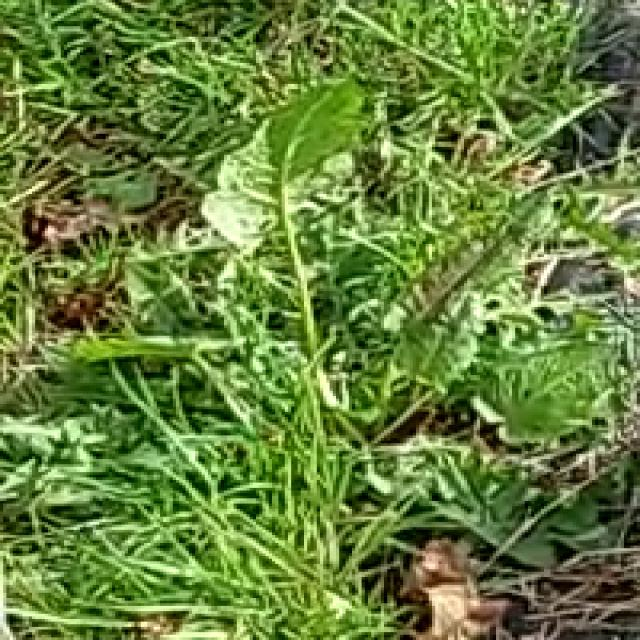organic waste: (109, 68, 640, 543)
